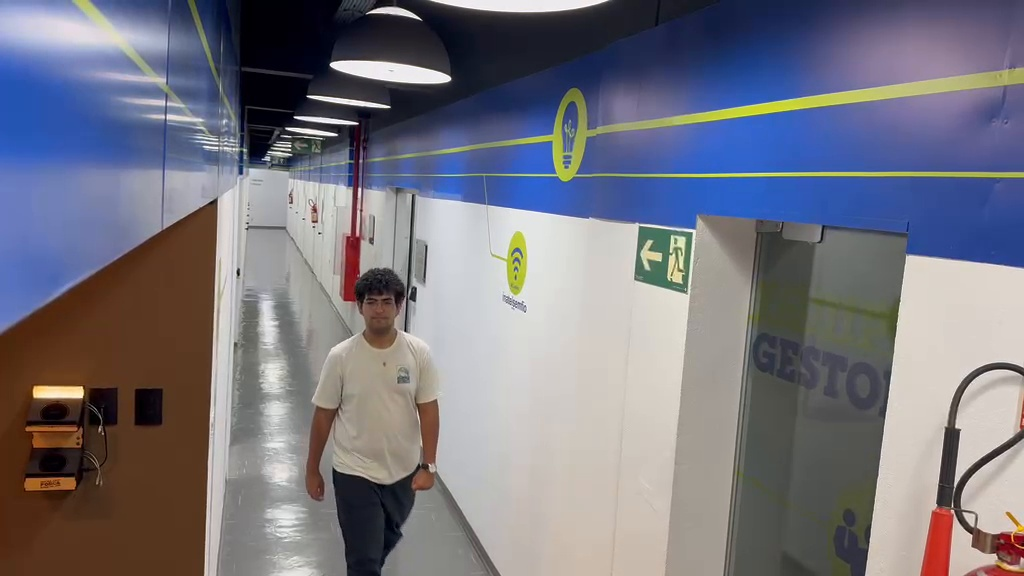person: (304, 267, 441, 573)
